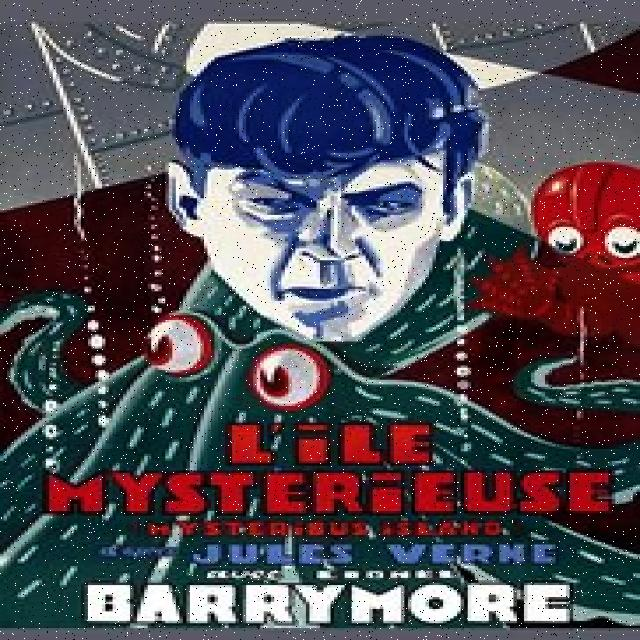movie-judul: (35, 415, 608, 640)
picture: (24, 23, 640, 401)
